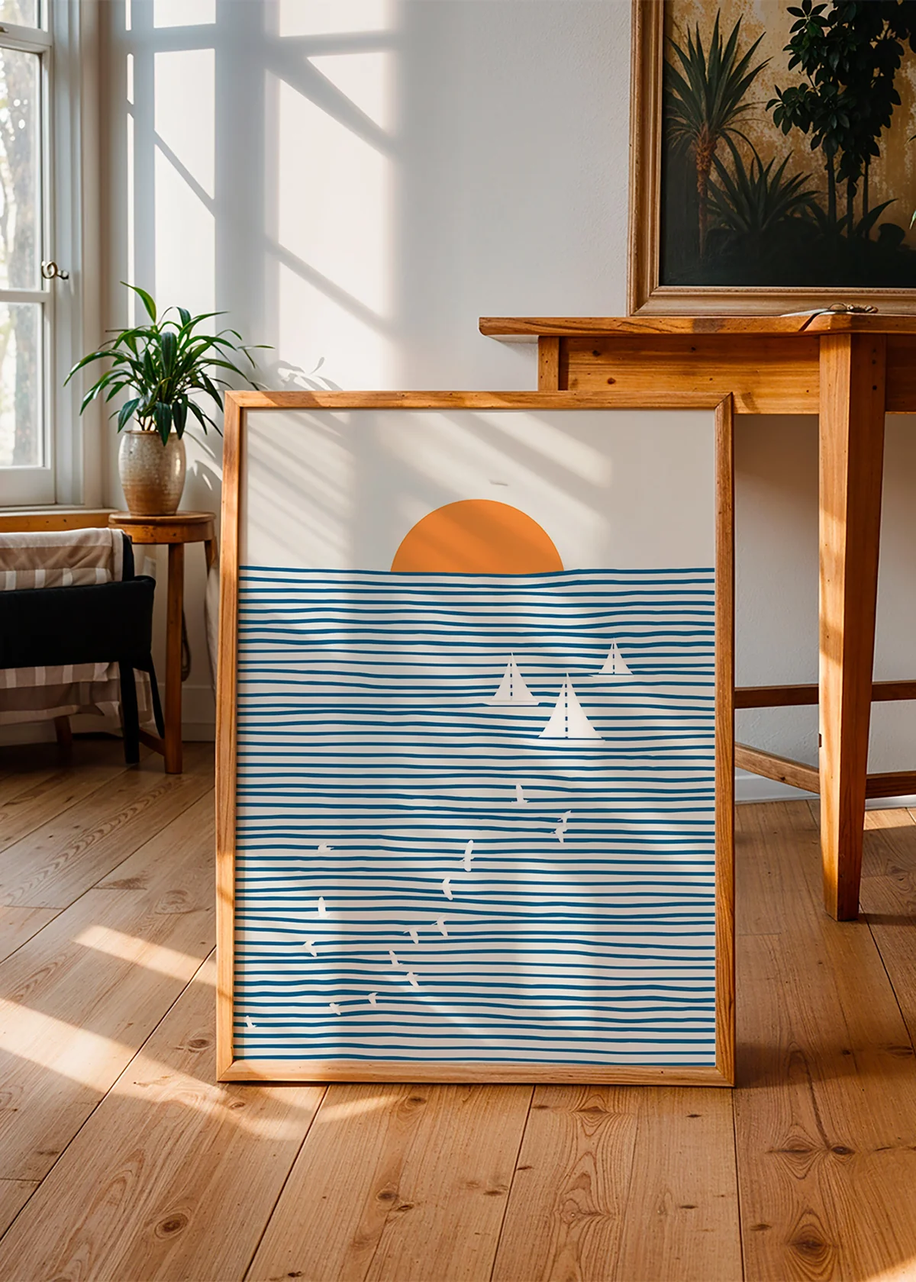painting: (212, 389, 738, 1090)
